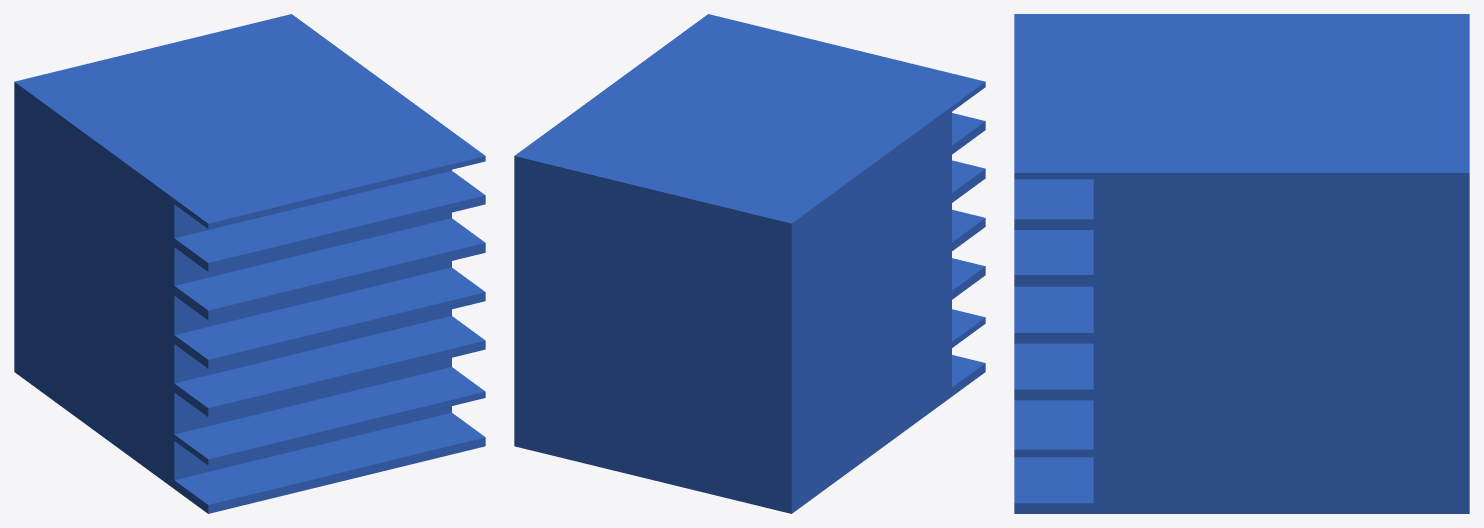
The model's file is stand.glb.
The picture shows the model from 3 angles, left to right: view 1: azimuth 30°, elevation 25°; view 2: azimuth 150°, elevation 25°; view 3: azimuth 270°, elevation 25°; orthographic projection. The views are drawn at different scales.
Visible parts, largest first — view 1: Cube; view 2: Cube; view 3: Cube.
Boxes of the visible parts, left/top/right/bottom form: Cube: left=14, top=14, right=485, bottom=513; Cube: left=514, top=14, right=985, bottom=513; Cube: left=1014, top=14, right=1469, bottom=513.
Size of the model in its own units: 7.54 by 7.54 by 9.13.
